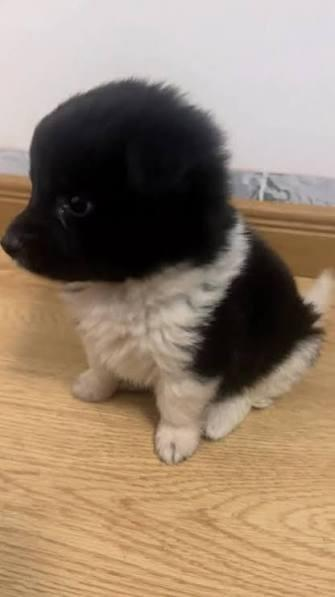puppy-dog: (0, 70, 334, 469)
